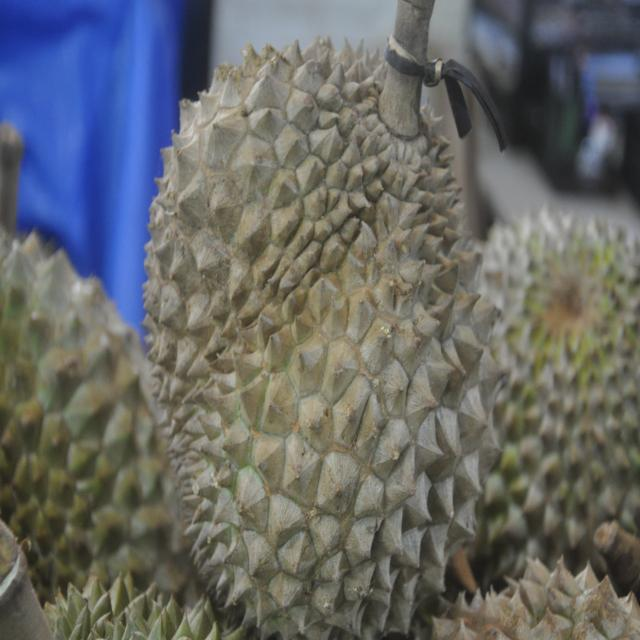mature: (126, 7, 518, 633)
